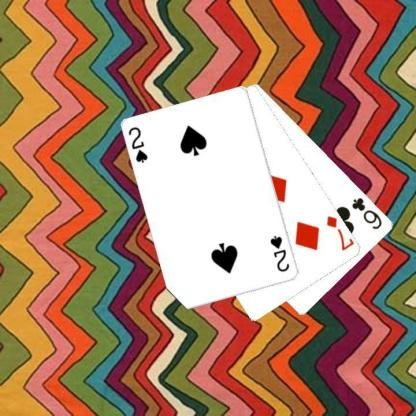2S: (126, 124, 149, 165), (268, 233, 291, 273)
6C: (350, 194, 384, 230)
7D: (324, 212, 354, 252)
